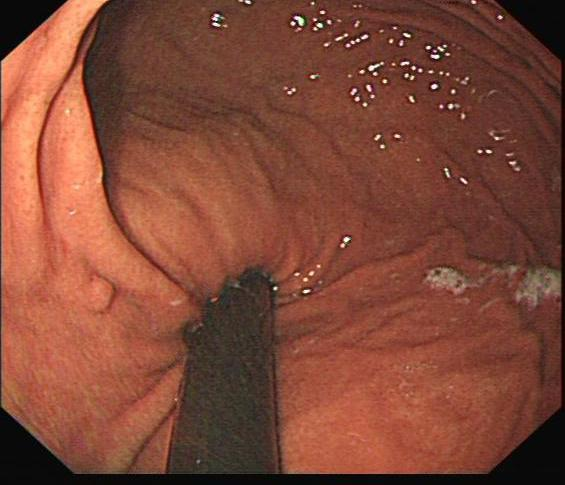Polyp: (72, 256, 142, 332)
